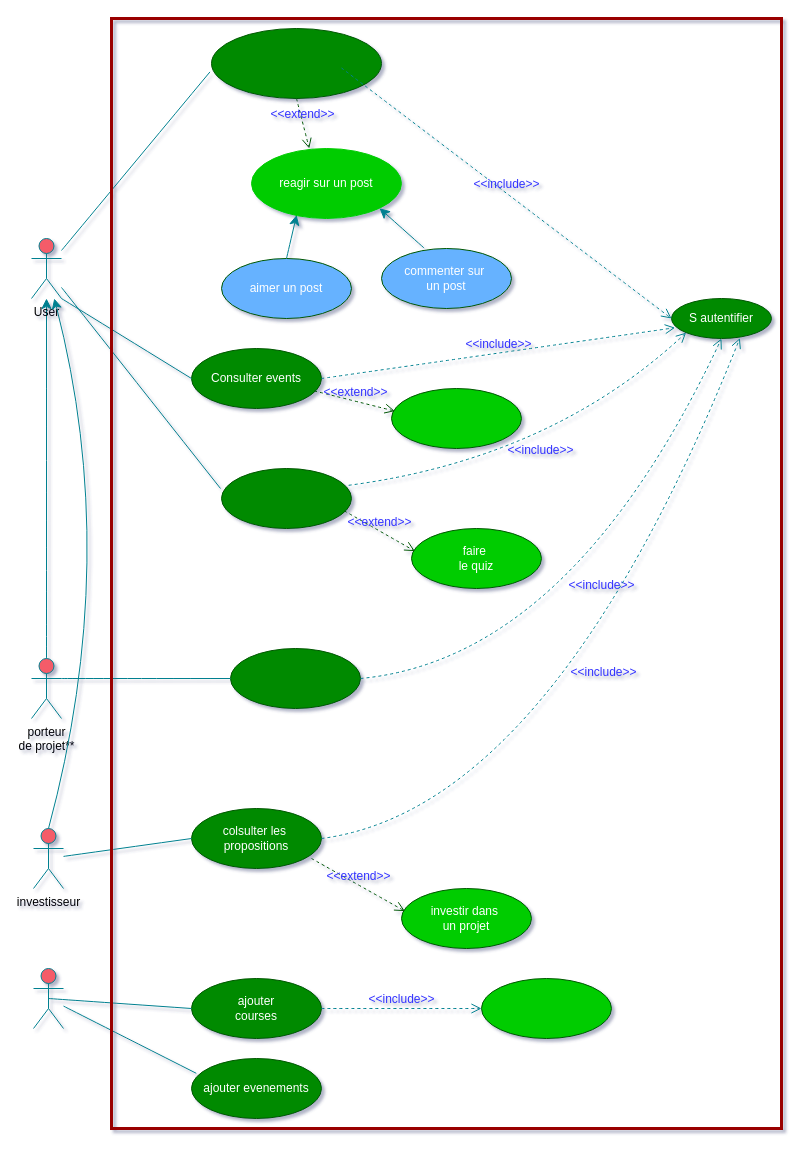
This 806x1153 diagram has some shape labels left out. The shapes that lost their labels are listed below. From the top down, each one's centre as x and y in pixels, then its label:
At (296,63): "Consulter posts".
At (456,418): "S inscrire a un evenement".
At (286,498): "participer au courses".
At (295,678): "proposer un projet".
At (48,998): "Admin".
At (546,1008): "ajouter un quiz".
